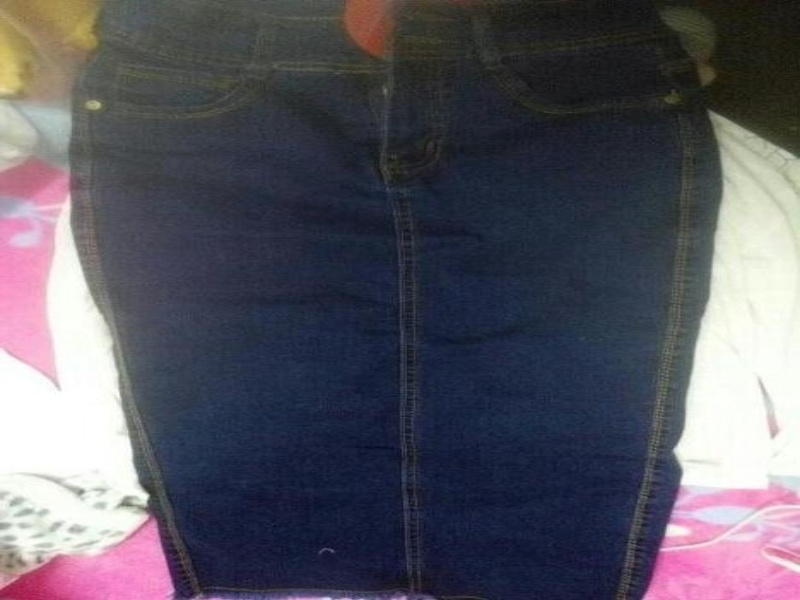skirt: (63, 0, 726, 599)
